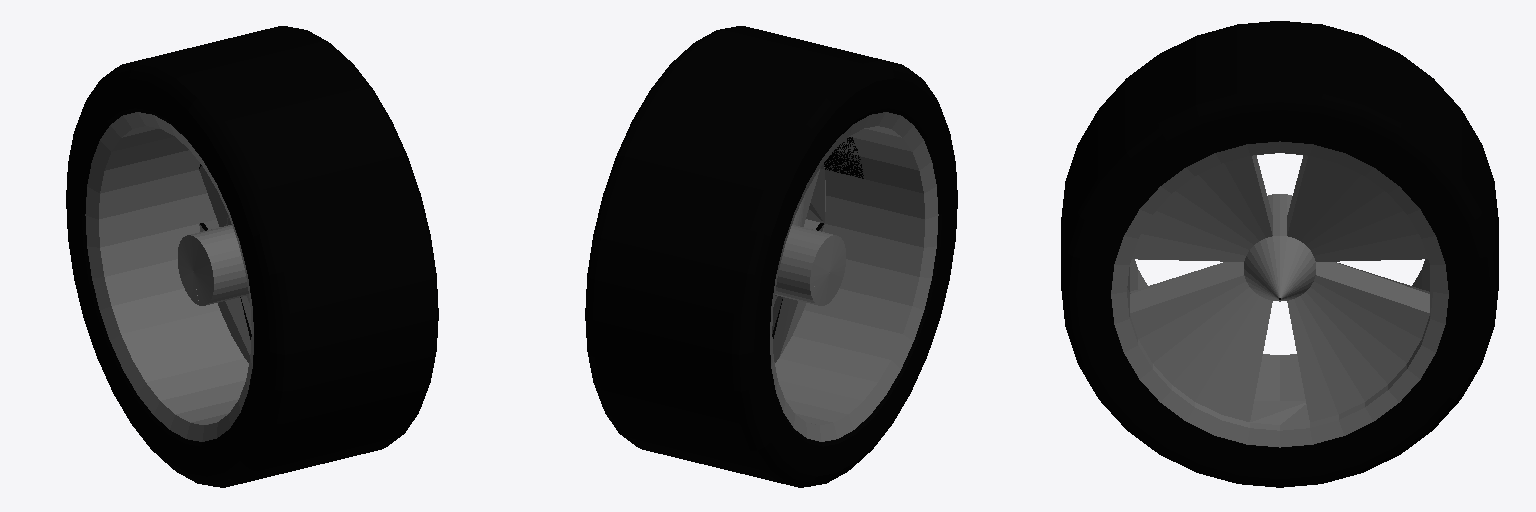
Rendered from super_dozer_front_wheel.obj.
The picture shows the model from 3 angles: view 1: azimuth 30°, elevation 25°; view 2: azimuth 150°, elevation 25°; view 3: azimuth 270°, elevation 25°; orthographic projection.
Visible parts, largest first — view 1: Cylinder.003; view 2: Cylinder.003; view 3: Cylinder.003.
Part boxes in pixels (x1,y1,x2,y2): Cylinder.003: (66,26,438,487); Cylinder.003: (585,26,957,487); Cylinder.003: (1061,21,1498,487).
Size of the model in its own units: 1.18 by 2.55 by 2.55.